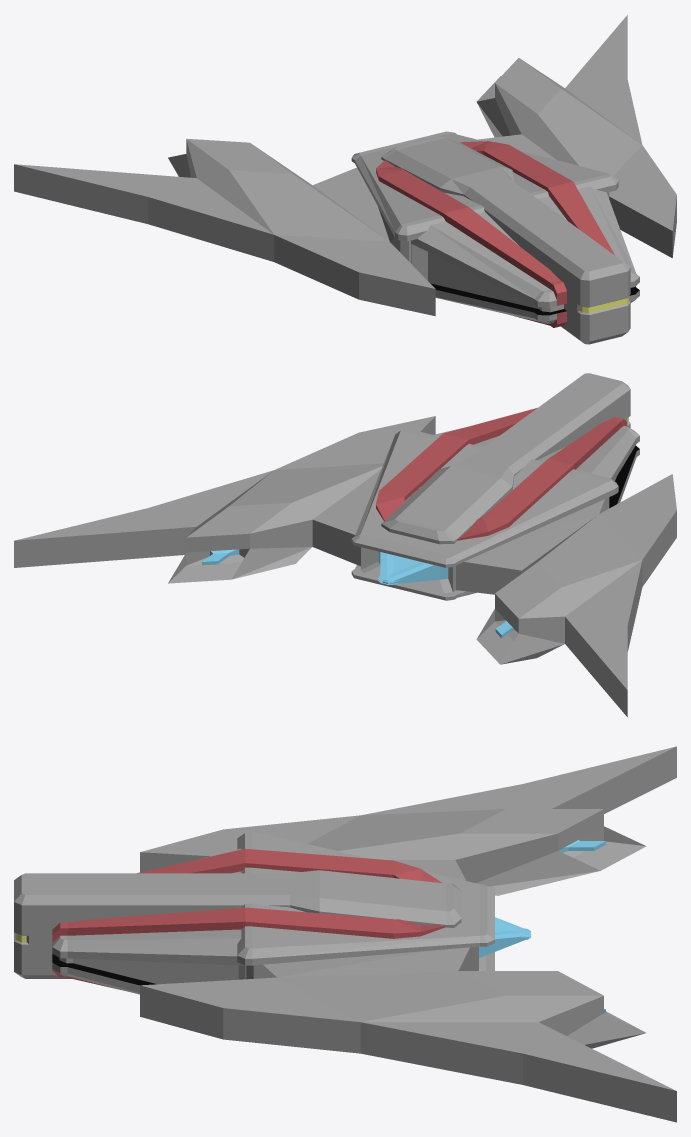
File: Shipebbom.fbx
3 renders of one model, top to bottom at view 1: azimuth 30°, elevation 25°; view 2: azimuth 150°, elevation 25°; view 3: azimuth 270°, elevation 25°, orthographic. The views are drawn at different scales.
Parts seen in each view (by area): view 1: Polygonal_Geometry_1; view 2: Polygonal_Geometry_1; view 3: Polygonal_Geometry_1.
Part boxes in pixels (box(x1,y1,x2,y2)): Polygonal_Geometry_1: box(14, 15, 676, 344); Polygonal_Geometry_1: box(14, 373, 676, 717); Polygonal_Geometry_1: box(14, 746, 676, 1122).
Size of the model in its own units: 4401 by 583 by 3576.
